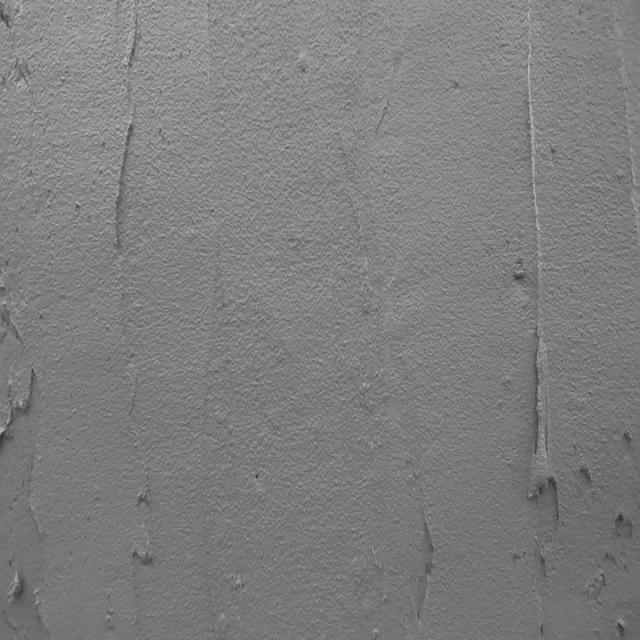trowels marks: (516, 9, 554, 516), (124, 343, 150, 619), (111, 8, 138, 273)
